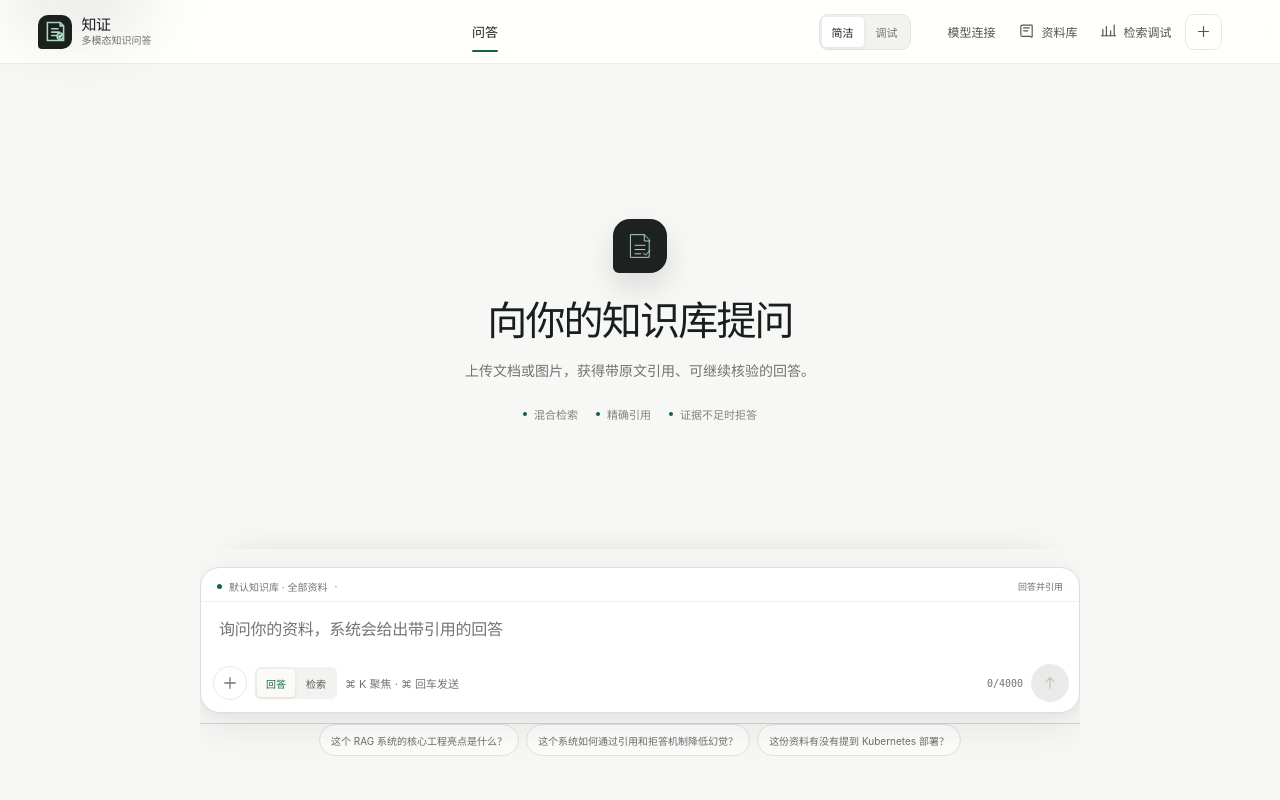
WorkbenchPage workflows › renders no-evidence refusal as a successful guarded outcome
In the text box named "question": point(640, 629) [201,602,1079,656], type "有没有 Kubernetes？"
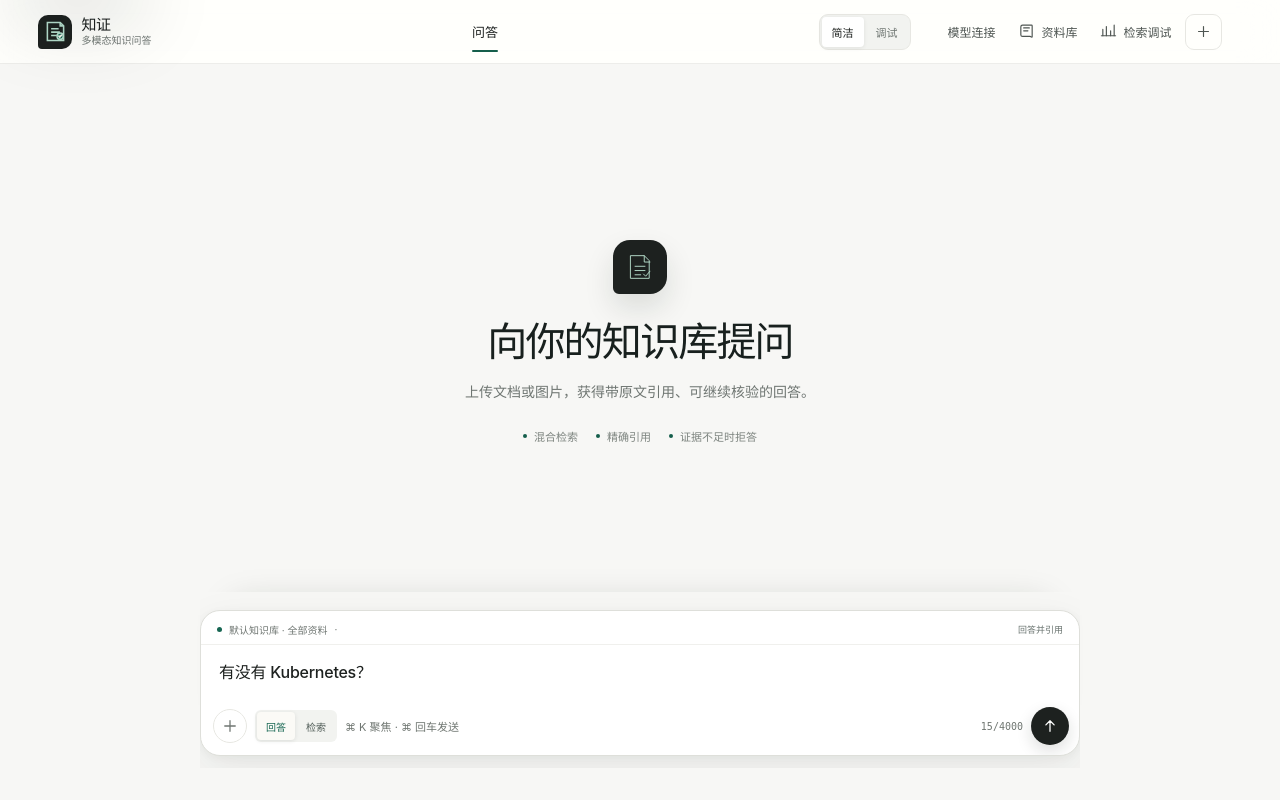
Click the button with test id "run-query": point(1050, 726) [1031,707,1069,745]
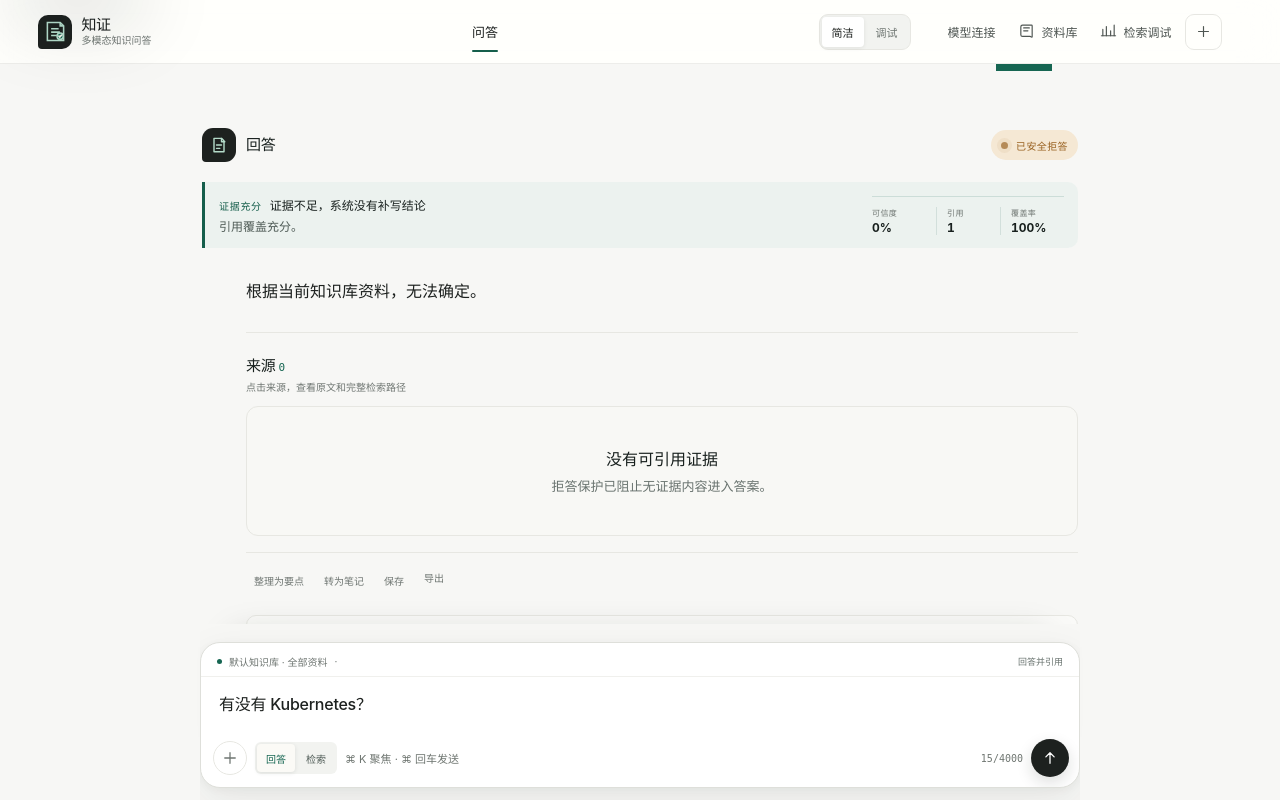
Check: the message "已安全拒答" is shown, box [991,130,1078,160]
Check: the text "无法确定" is shown, box [246,281,486,301]
Check: the text "没有可引用证据" is shown, box [606,446,718,470]
